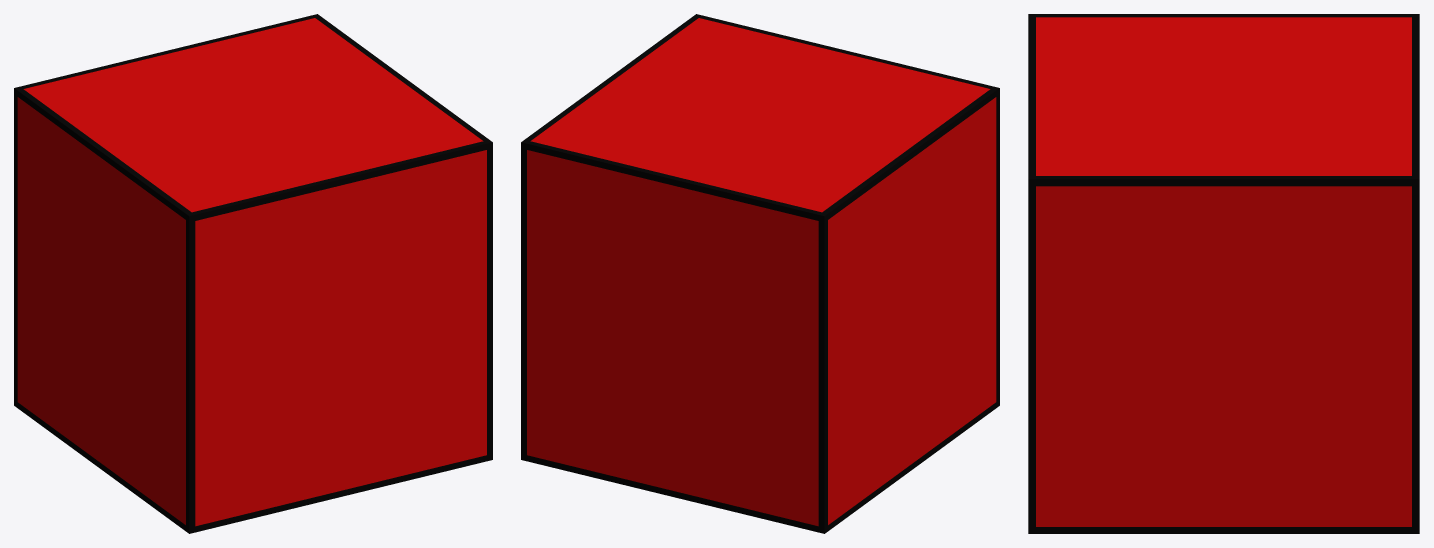
Rendered from testCube_RED.glb.
The picture shows the model from 3 angles, left to right: view 1: azimuth 30°, elevation 25°; view 2: azimuth 150°, elevation 25°; view 3: azimuth 270°, elevation 25°; orthographic projection. The views are drawn at different scales.
Visible parts, largest first — view 1: CubeRED, Outine; view 2: CubeRED, Outine; view 3: CubeRED, Outine.
Boxes of the visible parts, x1,y1,x2,y2 form: CubeRED: [17, 18, 486, 526]; Outine: [14, 14, 492, 533]; CubeRED: [527, 18, 996, 526]; Outine: [521, 14, 999, 533]; CubeRED: [1036, 17, 1411, 526]; Outine: [1028, 14, 1419, 533].
Size of the model in its own units: 2.02 by 2.02 by 2.02.
